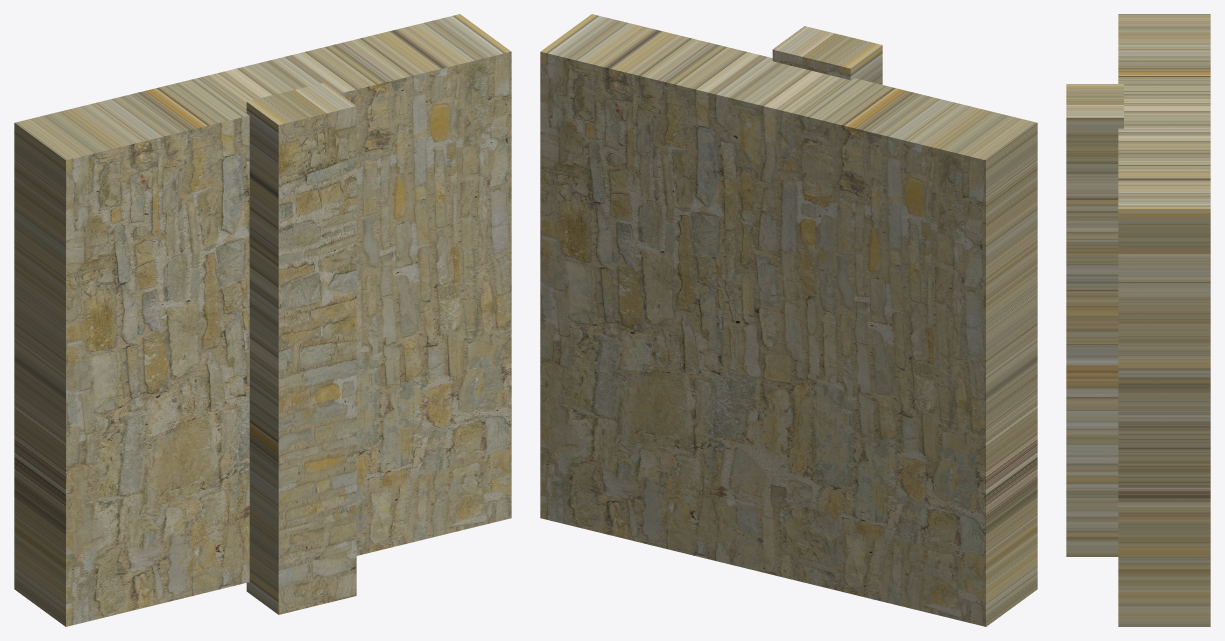
The model's file is combat_wall_sandstone.glb.
The picture shows the model from 3 angles, left to right: view 1: azimuth 30°, elevation 25°; view 2: azimuth 150°, elevation 25°; view 3: azimuth 270°, elevation 25°; orthographic projection. The views are drawn at different scales.
Parts seen in each view (by area): view 1: CombatWallSandstone; view 2: CombatWallSandstone; view 3: CombatWallSandstone.
Boxes of the visible parts, x1=… form: CombatWallSandstone: x1=14, y1=14, x2=511, y2=626; CombatWallSandstone: x1=540, y1=14, x2=1037, y2=626; CombatWallSandstone: x1=1066, y1=14, x2=1210, y2=626.
Bounding box in the file's own units: 4 × 4.2 × 1.25.
1 material, 1 textured.
